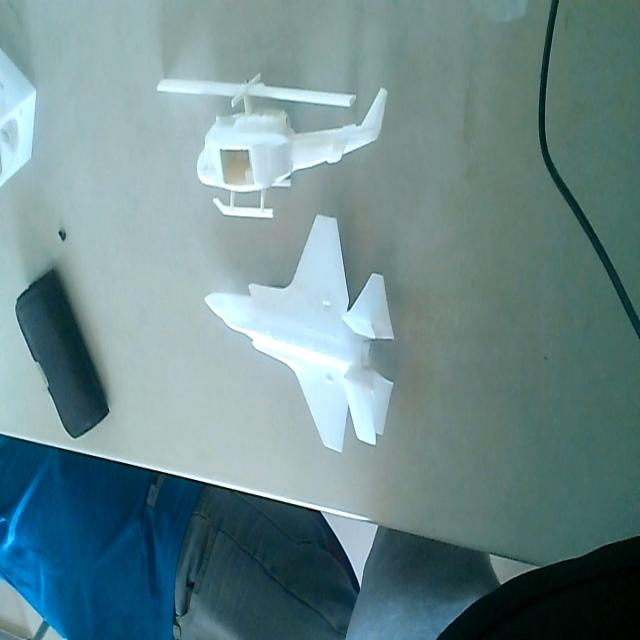Helicopter: (157, 67, 388, 218)
Jet: (204, 208, 397, 459)
